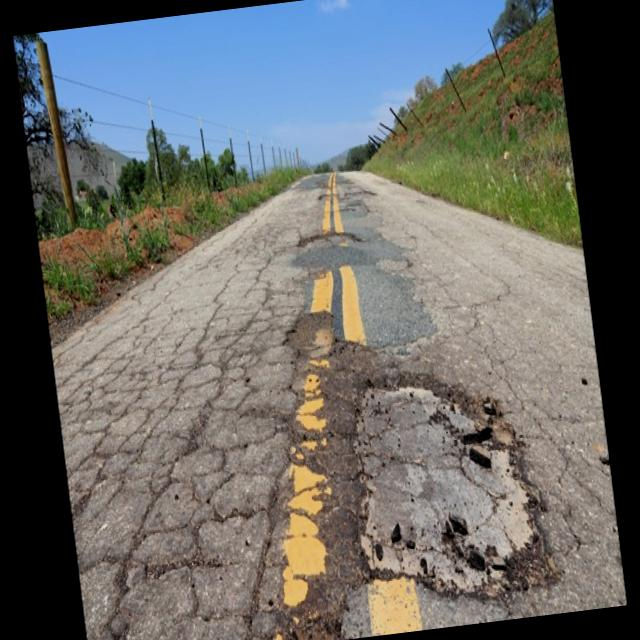bad-road: (338, 360, 565, 634), (276, 305, 339, 361), (295, 226, 359, 255)
